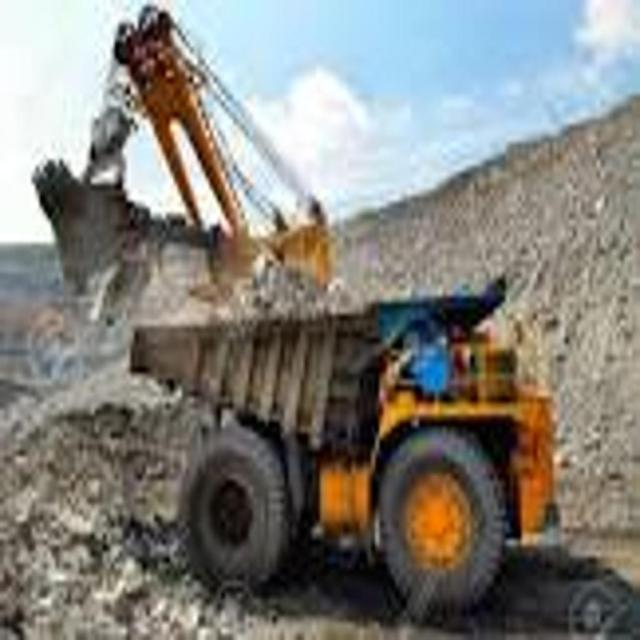dump_truck: (130, 291, 560, 640)
